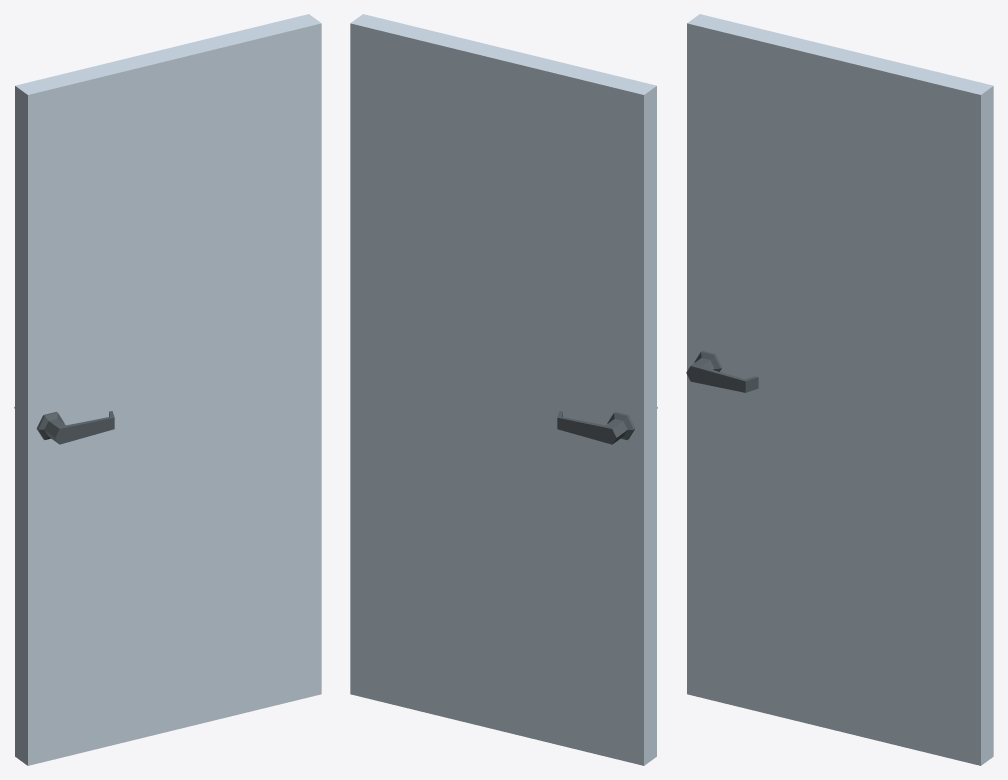
File: SM_Bld_RepairShop_Medium_Door_02.fbx
3 renders of one model, left to right at view 1: azimuth 30°, elevation 25°; view 2: azimuth 150°, elevation 25°; view 3: azimuth 330°, elevation 25°, orthographic.
Parts seen in each view (by area): view 1: SM_Bld_RepairShop_Medium_Door_02; view 2: SM_Bld_RepairShop_Medium_Door_02; view 3: SM_Bld_RepairShop_Medium_Door_02.
Part boxes in pixels (x1,y1,x2,y2): SM_Bld_RepairShop_Medium_Door_02: (14, 14, 321, 765); SM_Bld_RepairShop_Medium_Door_02: (350, 14, 657, 765); SM_Bld_RepairShop_Medium_Door_02: (686, 14, 993, 765).
Size of the model in its own units: 101 by 221 by 24.59.
